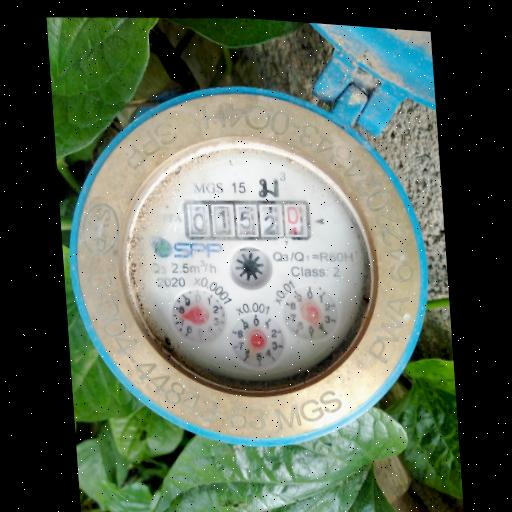0: (283, 204, 303, 238), (189, 202, 208, 237)
1: (215, 202, 232, 237)
2: (261, 203, 279, 237)
5: (237, 203, 254, 237)
border_water_meter_number: (182, 190, 312, 250)
